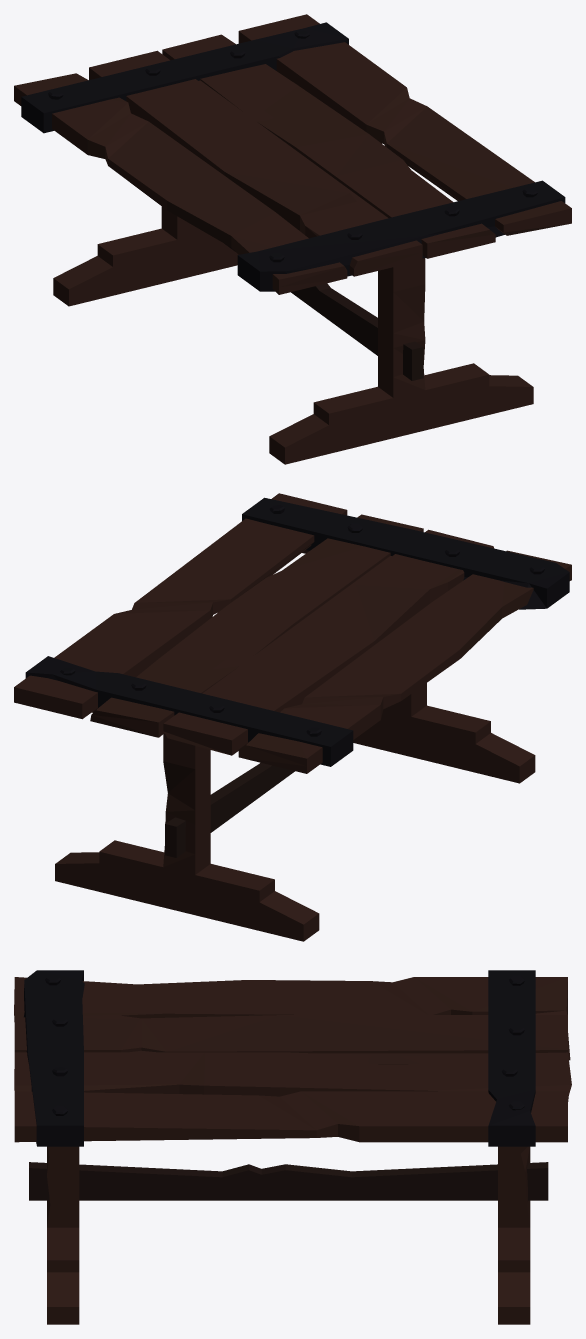
Rendered from Table_Small.obj.
3 renders of one model, top to bottom at view 1: azimuth 30°, elevation 25°; view 2: azimuth 150°, elevation 25°; view 3: azimuth 270°, elevation 25°, orthographic. The views are drawn at different scales.
Parts seen in each view (by area): view 1: Table_Small.001; view 2: Table_Small.001; view 3: Table_Small.001.
Part boxes in pixels (x1,y1,x2,y2): Table_Small.001: (14,14,571,464); Table_Small.001: (14,493,571,941); Table_Small.001: (14,970,571,1324).
Size of the model in its own units: 1.3 by 0.854 by 1.98.
